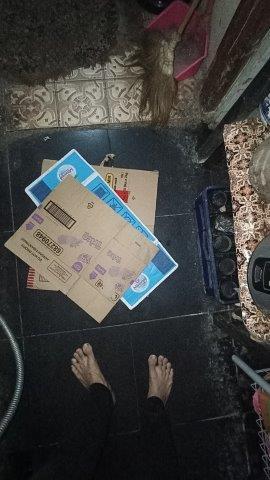kardus: (7, 150, 176, 322)
